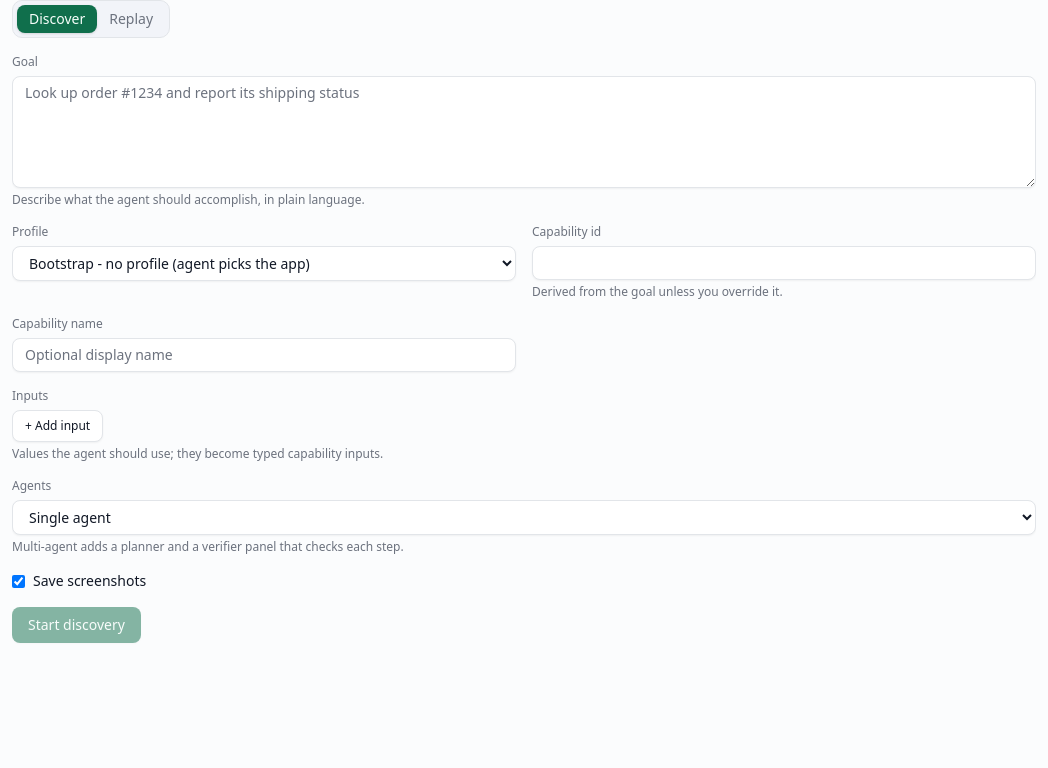
Test: GoalForm › hides the tenant choice for an app with a single instance
The image size is (1048, 768).
Expected: the field labelled "Tenant" is not shown
Select "System Settings (system-settings)" in the dropdown labelled "Profile" at (264, 264), box [12,246,516,281]
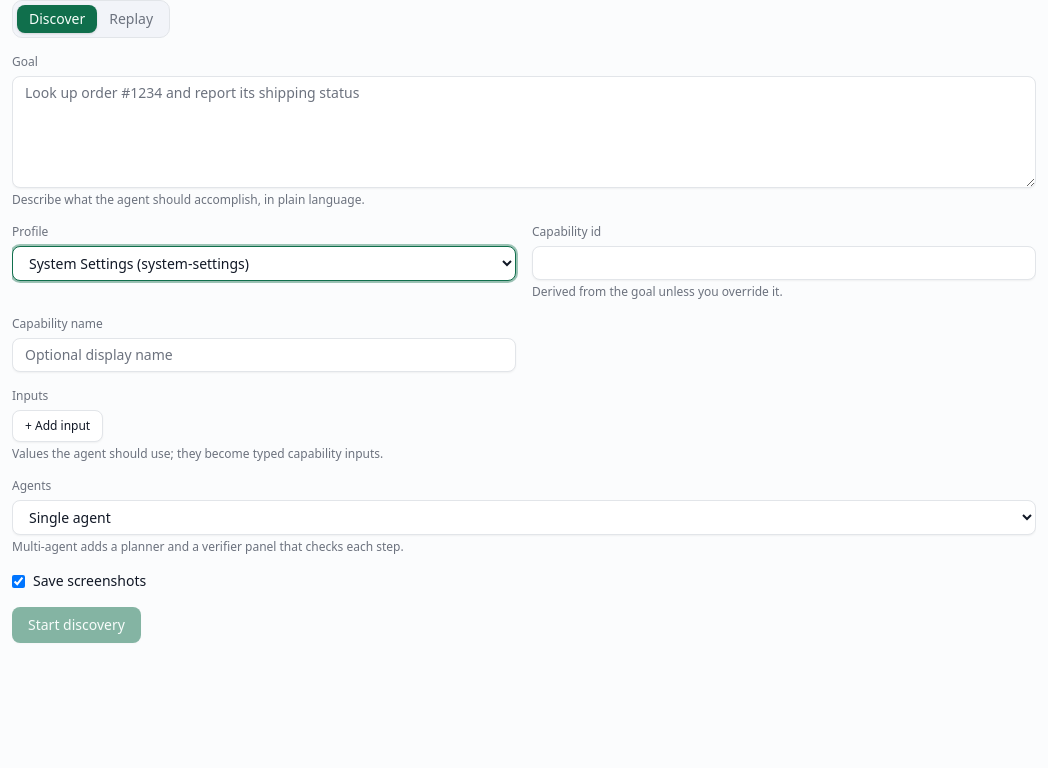
Expected: the field labelled "Tenant" is not shown
Select "ParaBank (parabank)" in the dropdown labelled "Profile" at (264, 264), box [12,246,516,281]
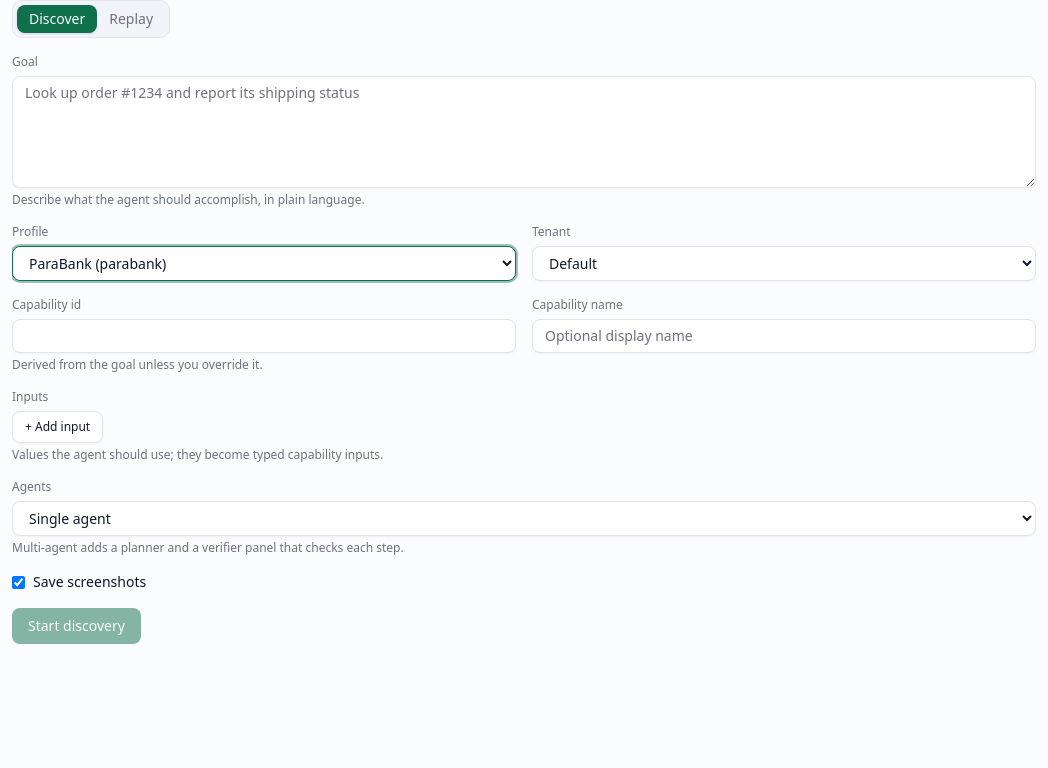
Expected: the dropdown labelled "Tenant" is shown, [532,246,1036,281]
